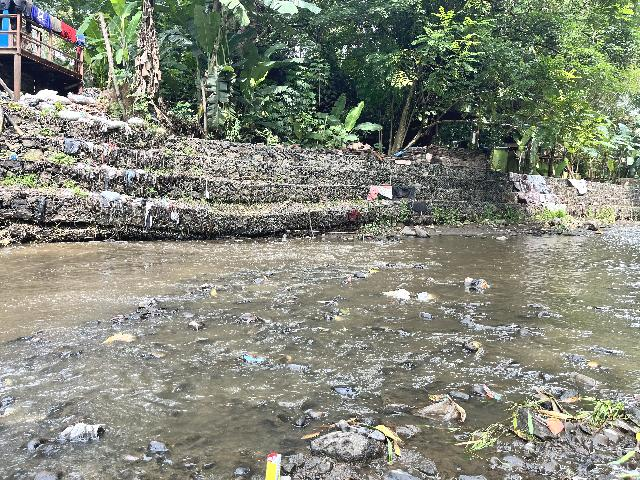Sampah Anorganik: (418, 392, 465, 427), (463, 273, 496, 295), (480, 382, 506, 406), (265, 452, 282, 480), (239, 350, 267, 365), (384, 286, 410, 299), (312, 299, 340, 308), (0, 405, 18, 417), (416, 292, 437, 302), (368, 267, 381, 277)
Sampah Organik: (547, 373, 637, 434), (461, 409, 537, 450), (98, 330, 138, 347), (467, 340, 483, 357), (273, 353, 293, 363), (107, 315, 126, 322), (301, 433, 321, 439), (247, 316, 258, 325), (331, 314, 342, 322), (587, 360, 598, 367), (210, 289, 218, 297), (263, 275, 272, 282), (337, 310, 347, 314), (348, 276, 351, 283)
